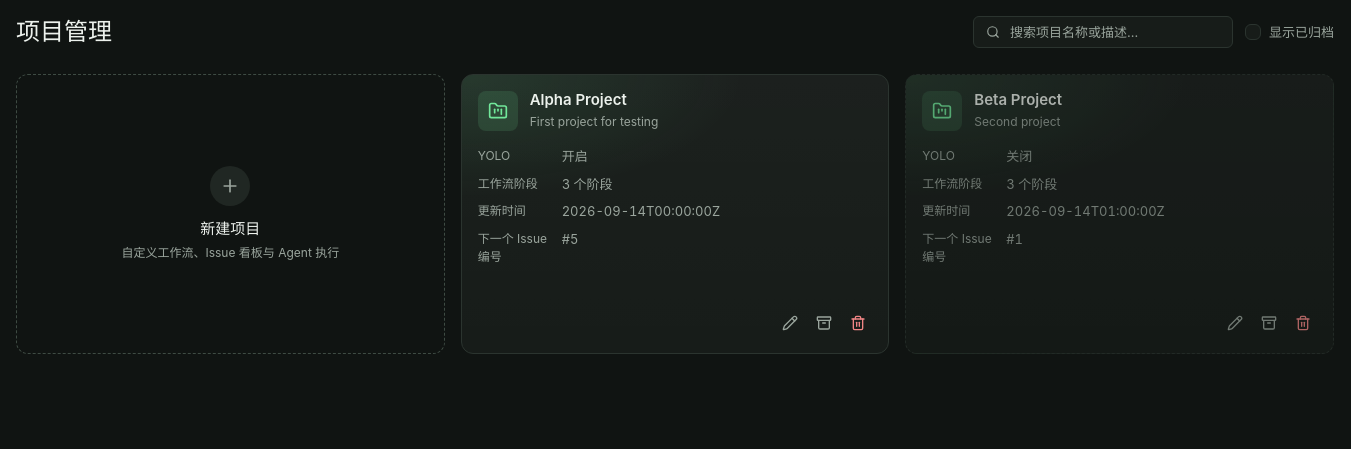
Test: ProjectsPage › renders no-results state when nonblank search yields no matching projects with no duplicate create button
Expected: the heading "Alpha Project" is shown, [530,90,627,109]
Type "nonexistent-query-123" into the field with placeholder "搜索项目名称或描述..." at (1114, 32), box [1008,17,1220,47]
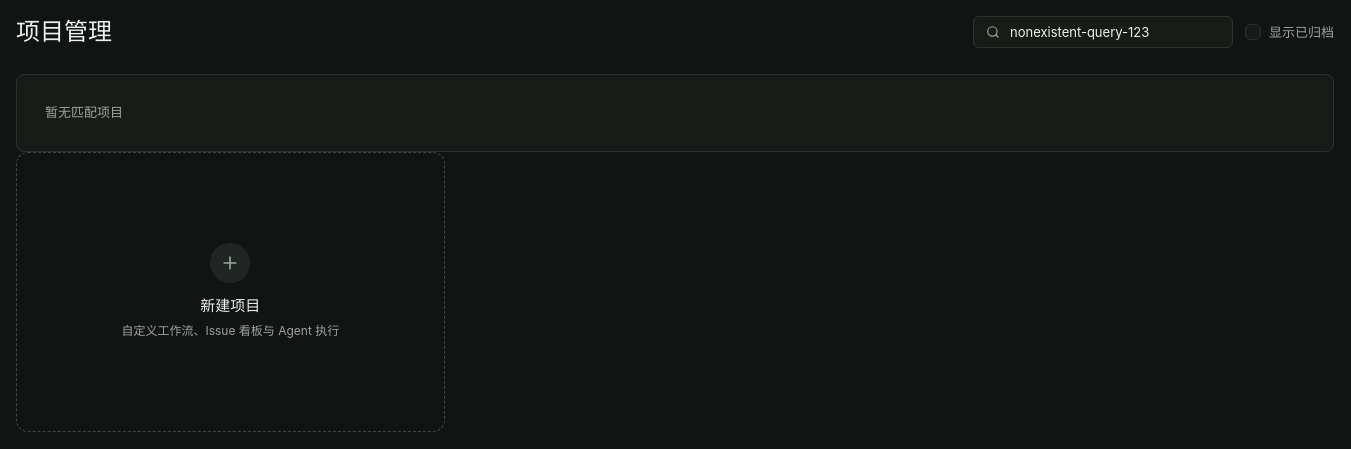
Expected: the number of buttons "新建项目 自定义工作流、Issue 看板与 Agent 执行" is 1, [16,152,445,432]
Result: the text "暂无匹配项目" is shown at [16,74,1334,152]
Result: the heading "Alpha Project" is gone
